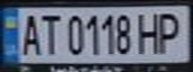0: (63, 11, 84, 55)
1: (81, 11, 100, 55), (100, 11, 118, 55)
8: (115, 10, 136, 55)
A: (15, 10, 45, 56)
H: (136, 9, 166, 55)
P: (154, 8, 187, 55)
T: (36, 11, 63, 56)
